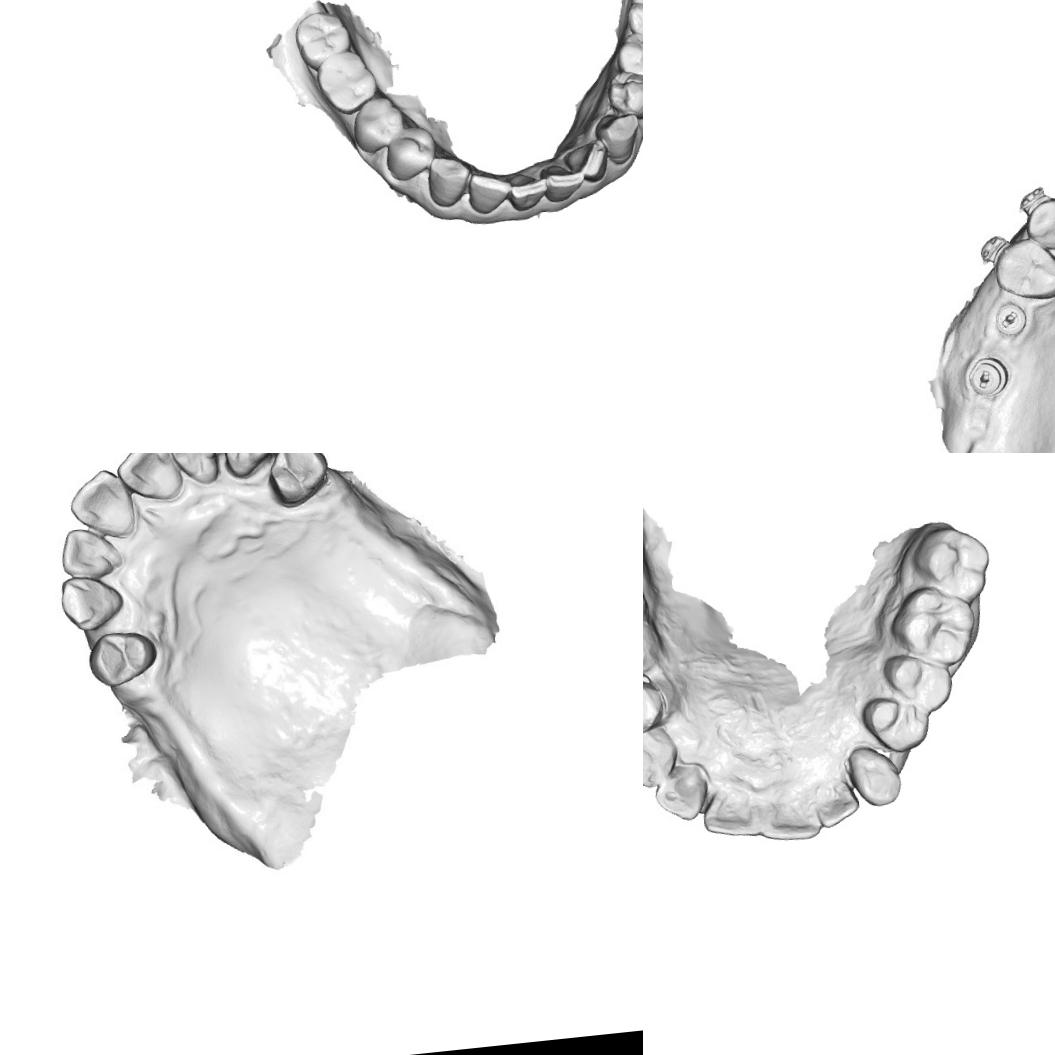canine: (842, 738, 908, 812), (58, 575, 126, 631), (423, 148, 477, 212), (591, 105, 643, 168), (643, 725, 678, 791), (1022, 191, 1055, 253), (217, 453, 278, 478)
implant_minus: (966, 353, 1012, 402), (991, 298, 1035, 344)
incisor: (696, 774, 768, 844), (754, 782, 829, 848), (648, 756, 714, 826), (67, 468, 138, 532), (810, 758, 862, 830), (117, 453, 186, 505), (60, 524, 118, 580), (462, 164, 515, 218), (558, 136, 614, 184), (500, 164, 552, 213), (540, 156, 588, 205), (169, 453, 216, 478)
molar: (886, 584, 978, 670), (911, 520, 996, 608), (310, 45, 382, 118), (290, 6, 353, 72), (618, 0, 643, 43)
premolar: (858, 690, 936, 755), (881, 648, 956, 714), (88, 626, 158, 688), (346, 92, 408, 158), (381, 122, 440, 184), (267, 453, 332, 507), (997, 234, 1055, 294), (601, 64, 643, 121), (613, 26, 643, 87), (643, 674, 671, 735)
